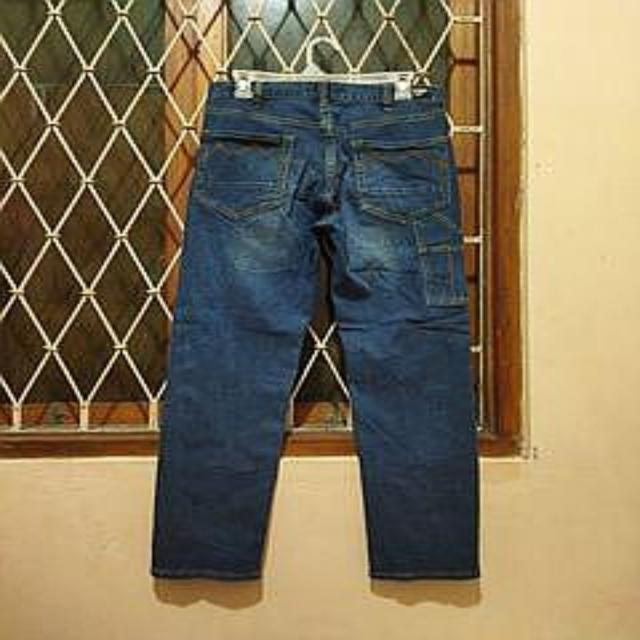TROUSER: (146, 69, 492, 588)
